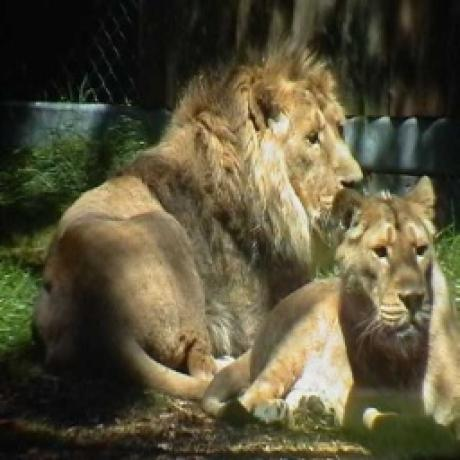Lion: (28, 40, 370, 402), (199, 176, 460, 433)
